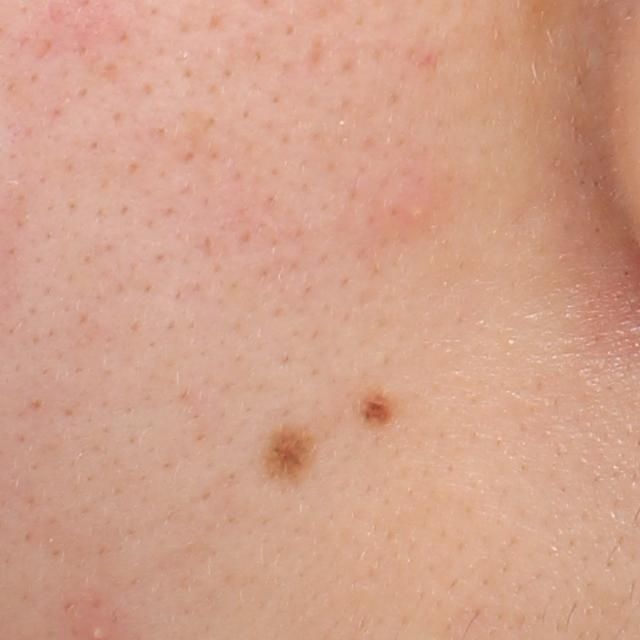nevus: (262, 422, 318, 490), (356, 384, 402, 432)
